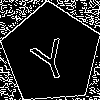Y: (26, 29, 73, 84)
